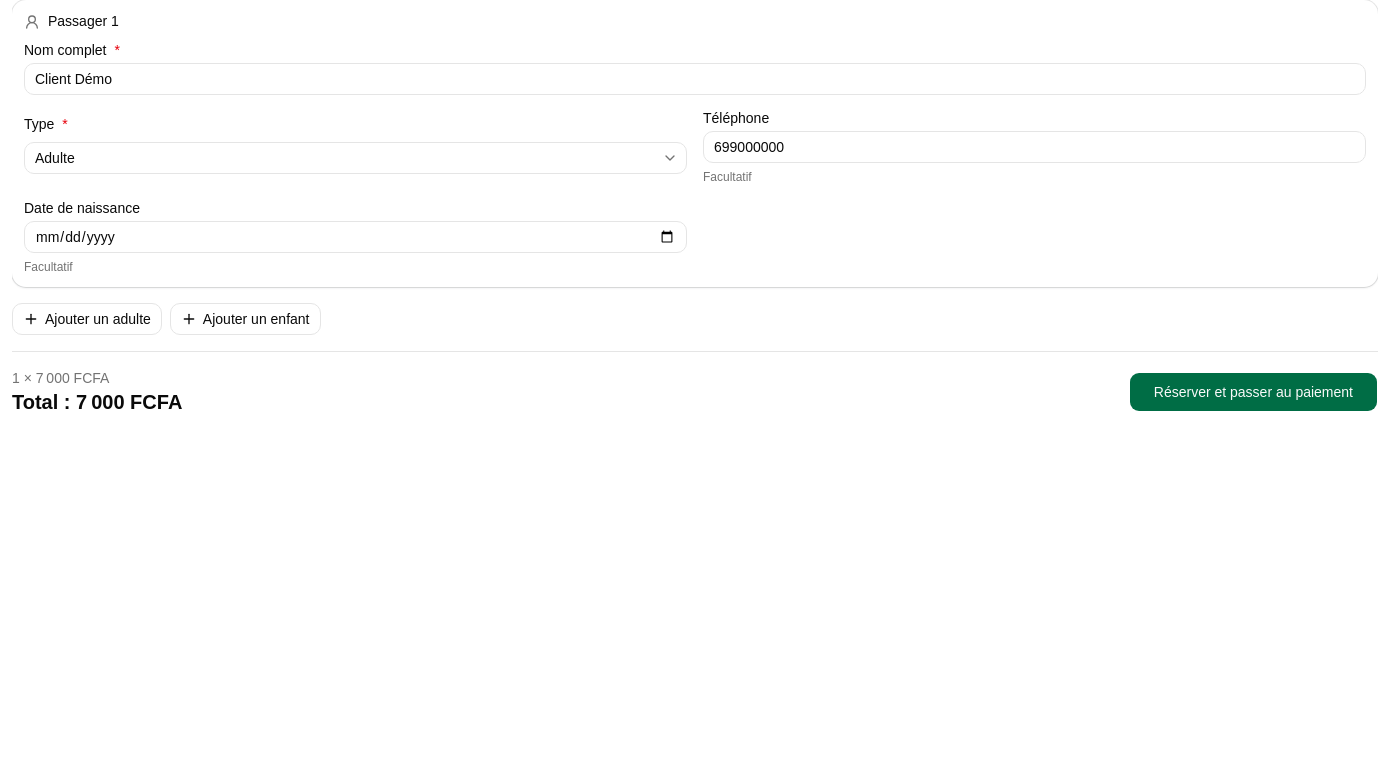
Test case: BookingForm › does not allow more passengers than the remaining seats
This screenshot has width=1390, height=768.
Click the button "Ajouter un adulte" at {"x": 87, "y": 319}, box [12,303,162,335]
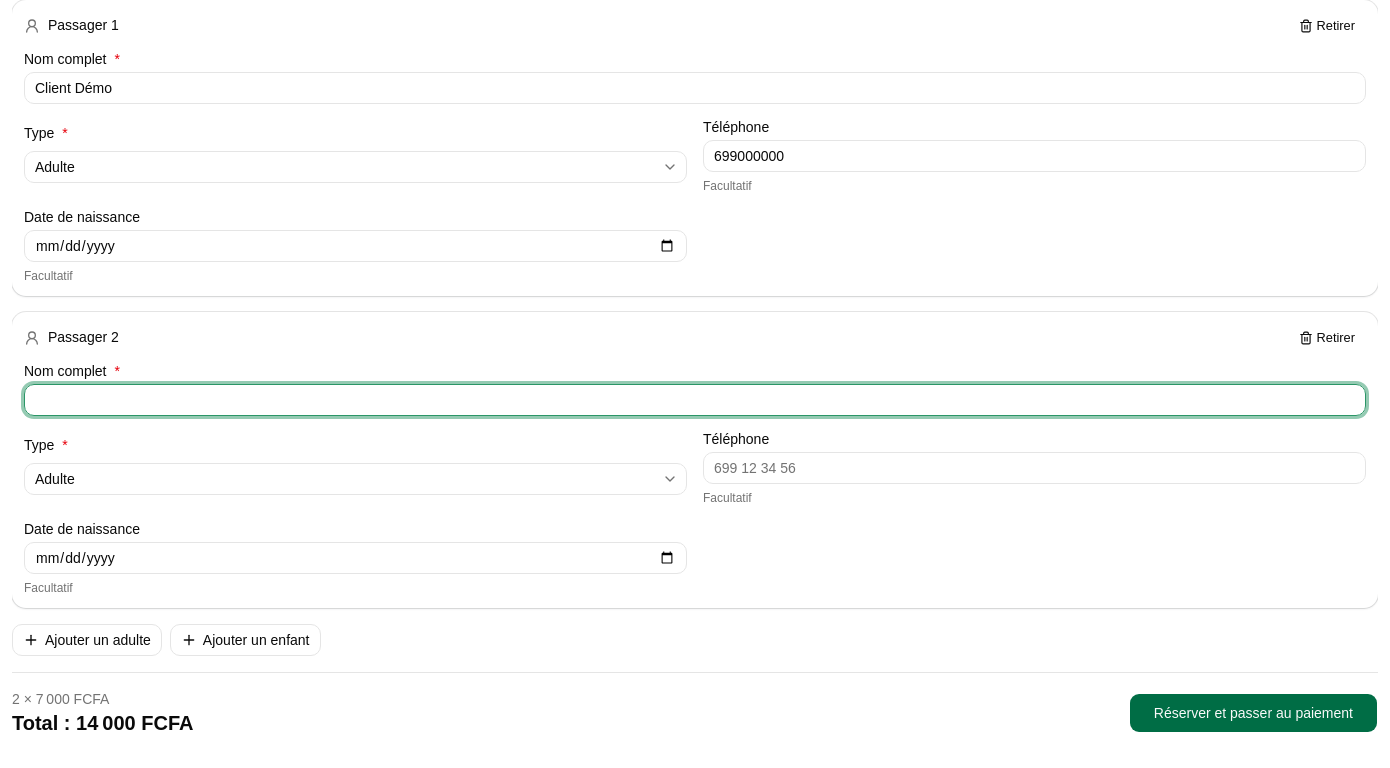
Click the button "Ajouter un adulte" at {"x": 87, "y": 640}, box [12,624,162,656]
(page scrolled)
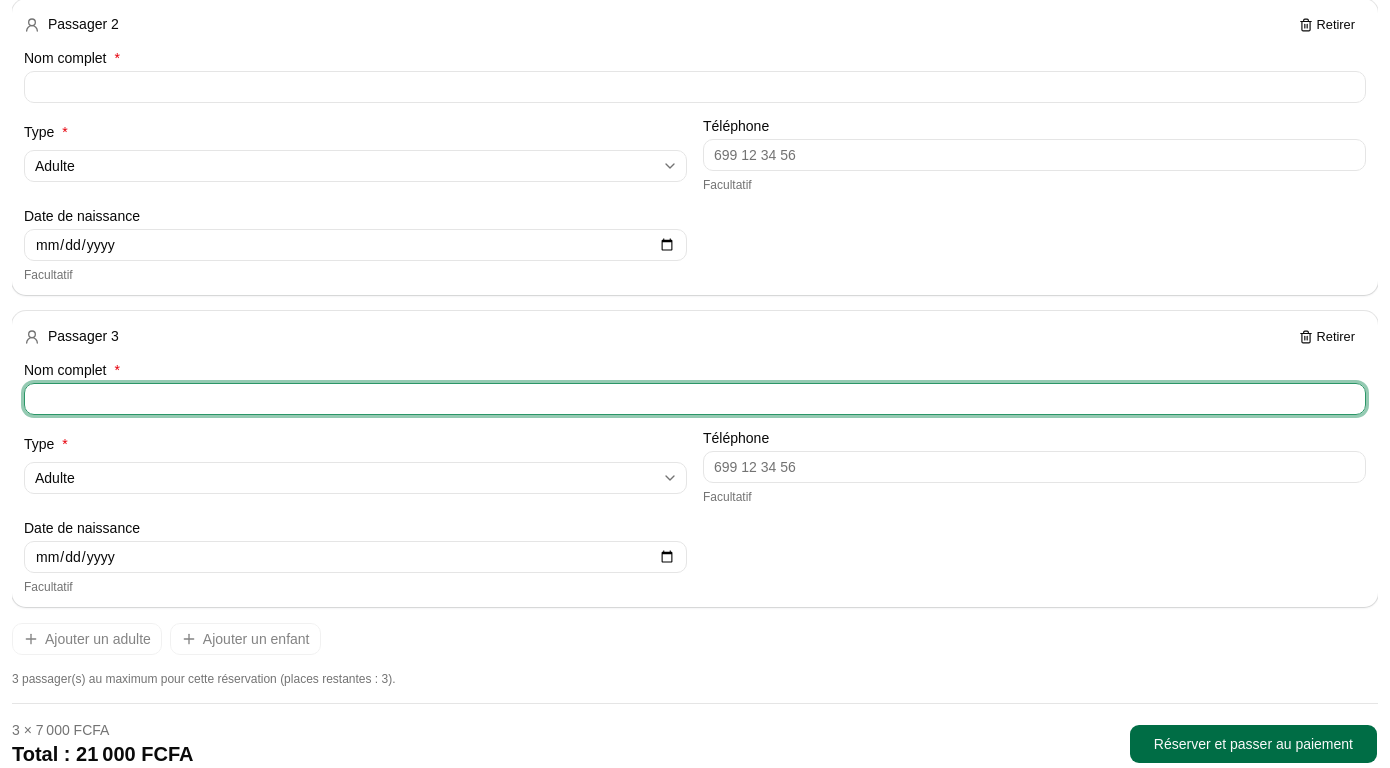
Check: the button "Ajouter un adulte" is disabled, box [12,623,162,655]
Check: the text "3 passager(s) au maximum" is shown, box [12,672,396,686]
